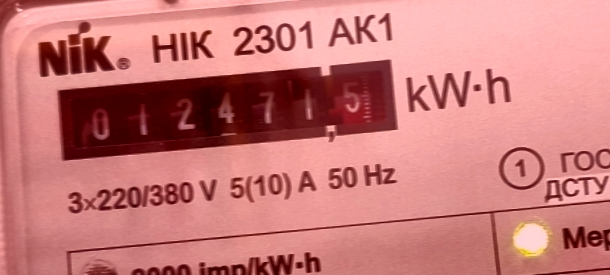0: (87, 105, 113, 143)
1: (136, 102, 150, 138), (301, 86, 314, 123)
2: (175, 96, 198, 133)
4: (215, 90, 237, 127)
5: (340, 77, 364, 117)
7: (255, 88, 278, 128)
screen: (47, 50, 410, 171)
